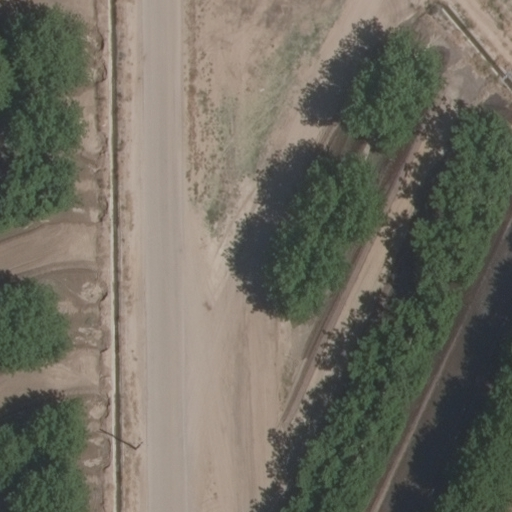DT: (129, 434, 148, 454)
